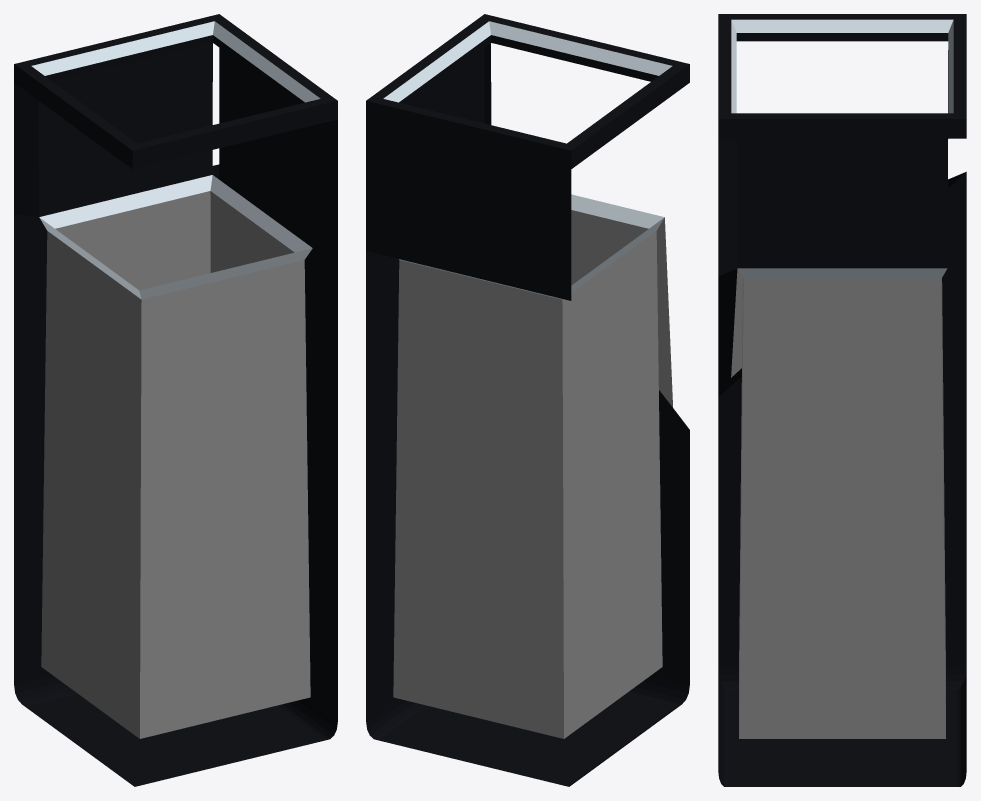
The model's file is Lixeira.fbx.
3 views of the same model, side by side, from view 1: azimuth 30°, elevation 25°; view 2: azimuth 150°, elevation 25°; view 3: azimuth 270°, elevation 25° (orthographic). The views are drawn at different scales.
Parts seen in each view (by area): view 1: Lixeira; view 2: Lixeira; view 3: Lixeira.
Boxes of the visible parts, box(x1,y1,x2,y2) form: Lixeira: box(14, 14, 337, 786); Lixeira: box(366, 14, 689, 786); Lixeira: box(718, 14, 966, 786).
Size of the model in its own units: 25.09 by 74.89 by 25.09.
